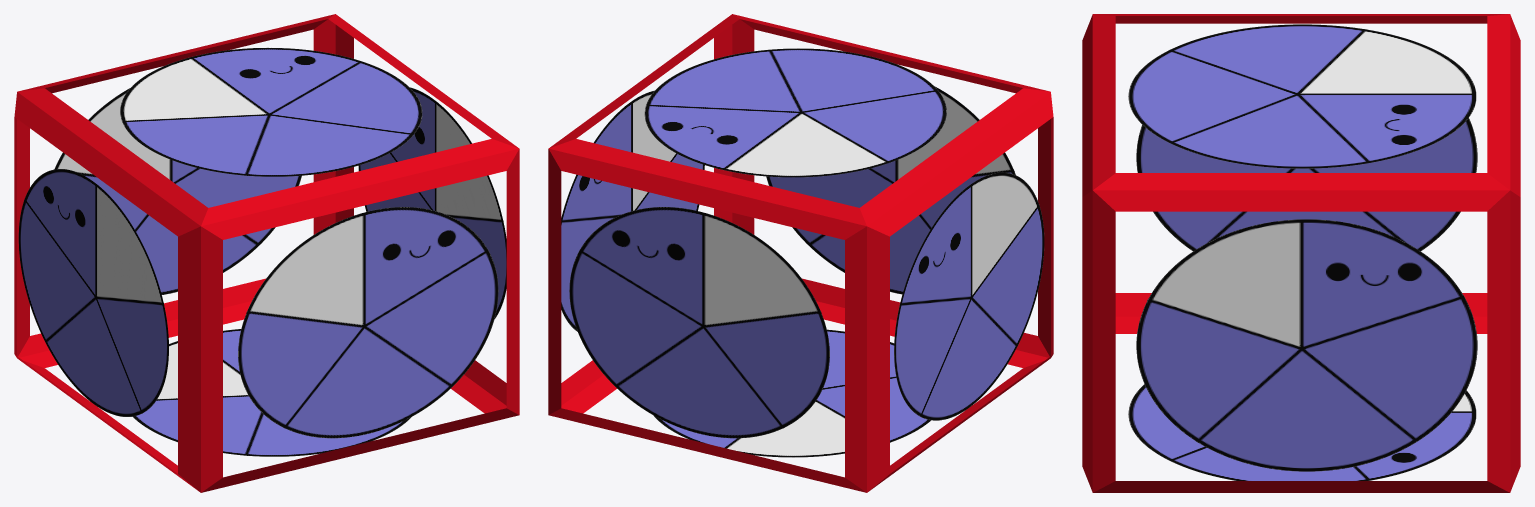
The model's file is Fracciones cuatro quintos.fbx.
3 views of the same model, side by side, from view 1: azimuth 30°, elevation 25°; view 2: azimuth 150°, elevation 25°; view 3: azimuth 270°, elevation 25° (orthographic). The views are drawn at different scales.
Parts seen in each view (by area): view 1: 4/5; view 2: 4/5; view 3: 4/5.
Boxes of the visible parts, x1=… form: 4/5: x1=14, y1=14, x2=519, y2=492; 4/5: x1=548, y1=14, x2=1053, y2=492; 4/5: x1=1082, y1=14, x2=1520, y2=492.
Bounding box in the file's own units: 213 × 168 × 210.
2 materials, 1 textured.
